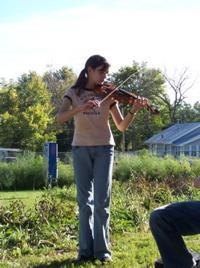person: (57, 56, 150, 261)
